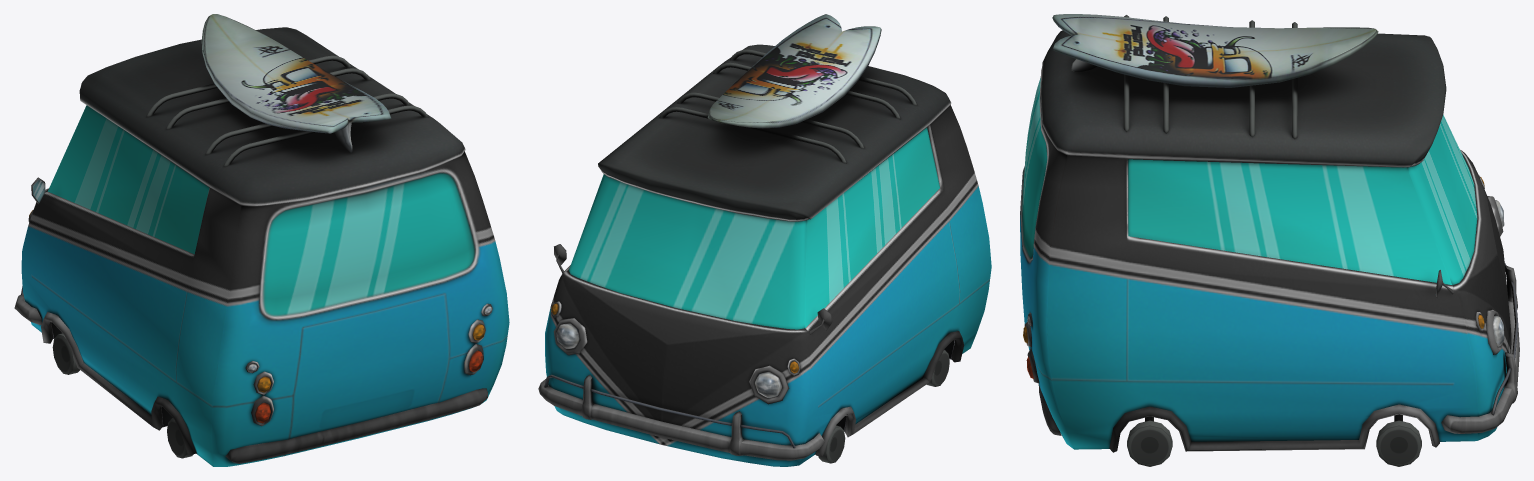
Rendered from SurferCartoon.fbx.
3 renders of one model, left to right at view 1: azimuth 30°, elevation 25°; view 2: azimuth 150°, elevation 25°; view 3: azimuth 270°, elevation 25°, orthographic. The views are drawn at different scales.
Visible parts, largest first — view 1: FullBody, WheelFrontLeft, WheelBackLeft; view 2: FullBody, WheelFrontLeft; view 3: FullBody, WheelBackRight, WheelFrontRight.
Boxes of the visible parts, x1,y1,x2,y2 form: FullBody: [14, 14, 509, 466]; WheelFrontLeft: [52, 333, 79, 374]; WheelBackLeft: [167, 418, 193, 458]; FullBody: [538, 14, 991, 466]; WheelFrontLeft: [818, 425, 845, 463]; FullBody: [1020, 14, 1519, 452]; WheelBackRight: [1127, 420, 1172, 466]; WheelFrontRight: [1376, 420, 1421, 466].
Size of the model in its own units: 267 by 276 by 344.
1 material, 1 textured.
